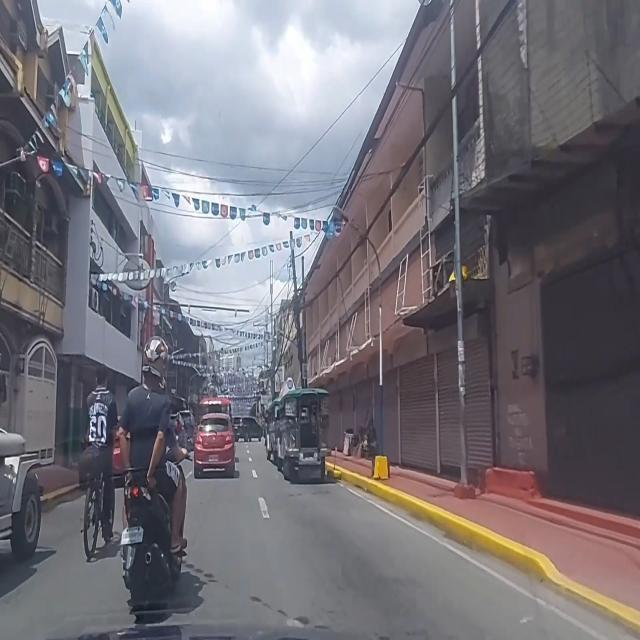bike: (79, 364, 120, 563)
car: (192, 411, 237, 479), (232, 416, 263, 444)
jeepney: (266, 383, 331, 483), (0, 421, 43, 561), (198, 396, 232, 426), (266, 396, 278, 466)
motorcycle: (117, 336, 190, 622)
